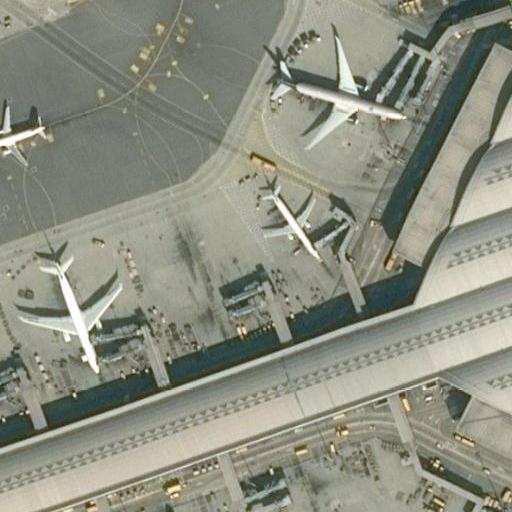Aircraft: (270, 32, 402, 146), (13, 245, 123, 375), (256, 177, 331, 262), (0, 94, 54, 168), (132, 510, 251, 512)
